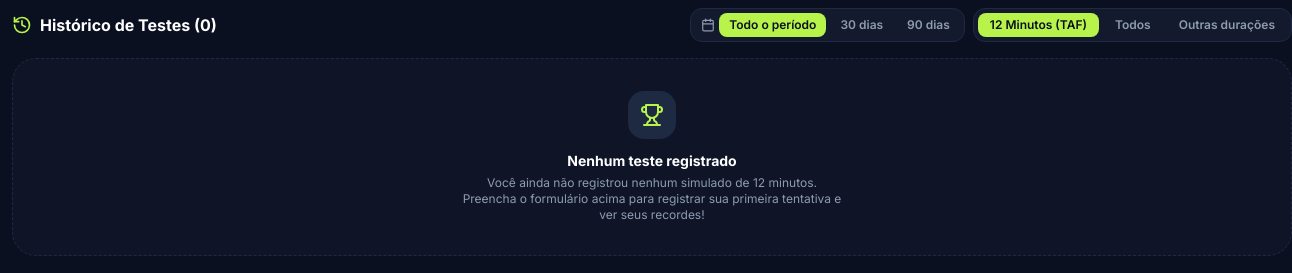
it: TafAttemptList Component › exibe estado vazio para 12 minutos e mensagem genérica ao trocar filtro
Check: the text "nenhum simulado de 12 minutos" is shown, box [463,175,841,222]
Click the button "Outras durações" at (1227, 25), box [1167,13,1287,37]
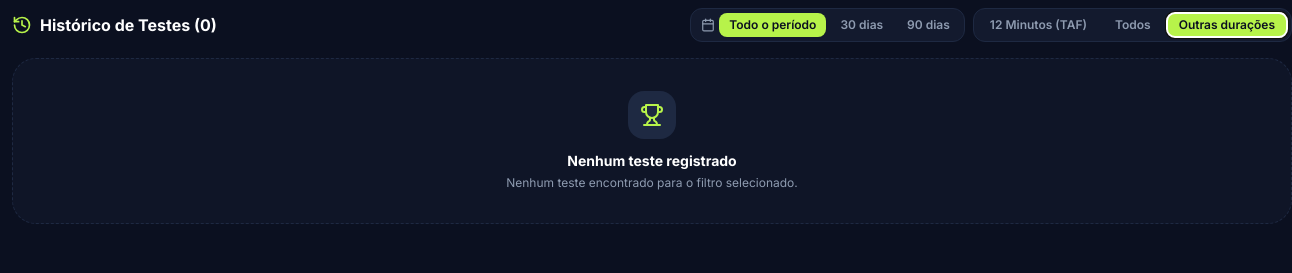
Check: the text "Nenhum teste encontrado para o filtro selecionado." is shown, box [506,175,798,190]
